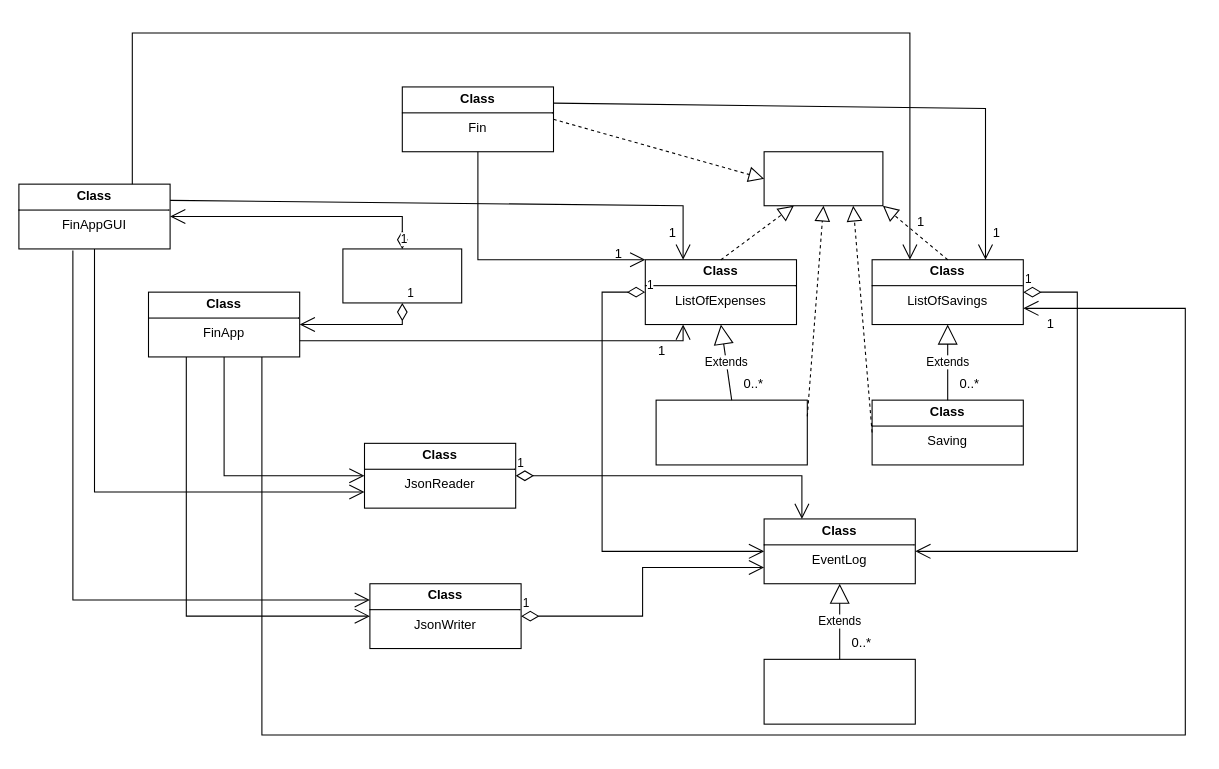
The diagram is 1219 pixels wide and 769 high, and some of its shapes have lost their labels. The shapes that lost their labels are listed below. From the top down, each one's box as (x1, y1, x2, y2) in pixels, then its label:
(763, 151, 883, 206): «interface» Writable
(342, 248, 462, 303): main
(655, 399, 807, 465): Class Expense
(763, 658, 915, 724): Class Event
